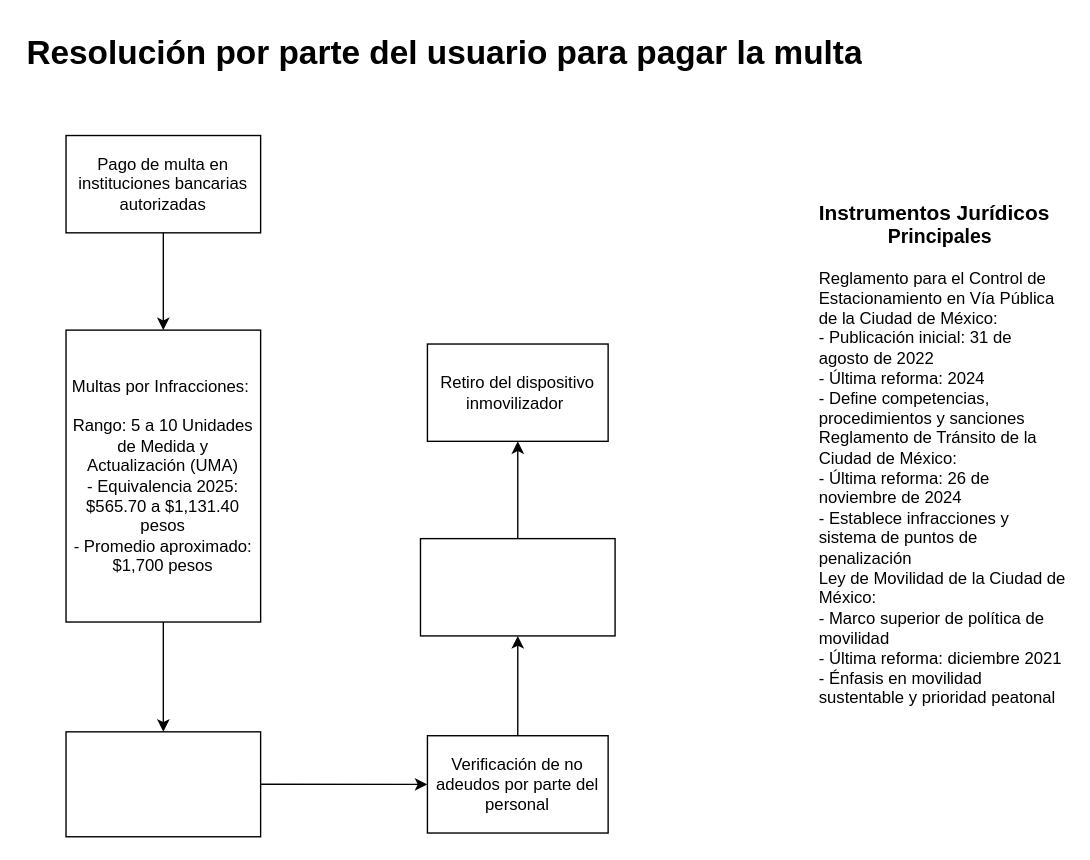
The diagram is 1090 pixels wide and 860 high, and some of its shapes have lost their labels. The shapes that lost their labels are listed below. From the top down, each one's centre as x and y in pixels, then its label:
At (517,586): "Contacto telefónico al número indicado en el comprobante".
At (163,783): "Pago de derecho por retiro del dispositivo ($327.00)".
